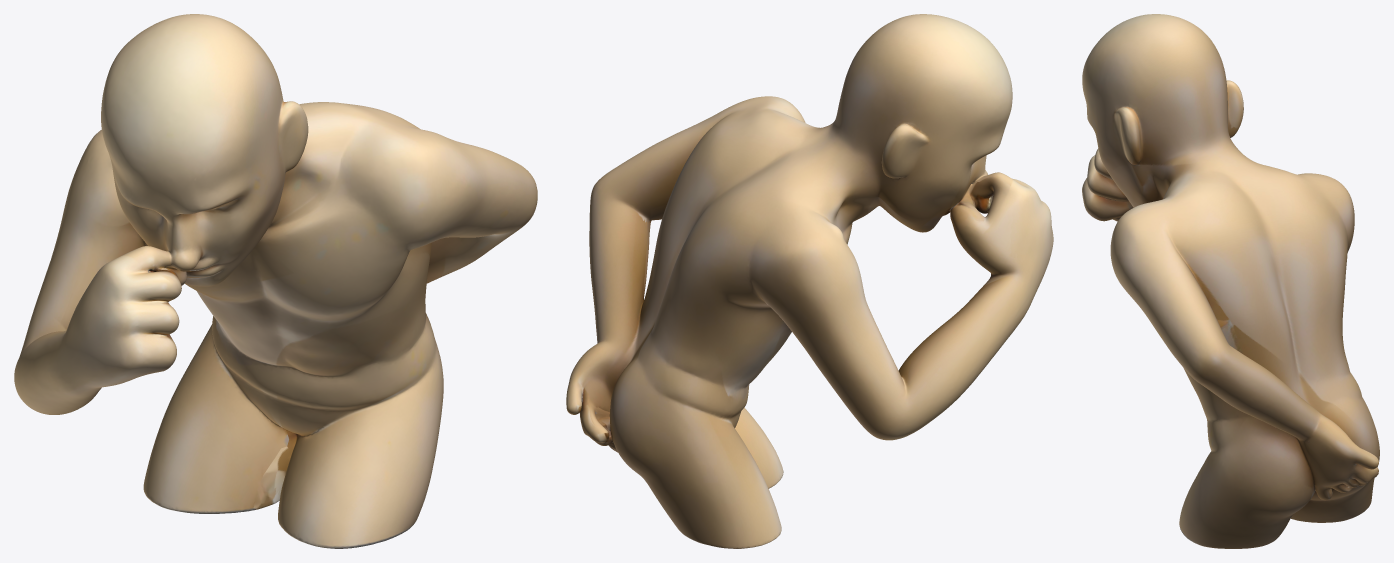
File: nose_bleed.glb
3 renders of one model, left to right at view 1: azimuth 30°, elevation 25°; view 2: azimuth 150°, elevation 25°; view 3: azimuth 270°, elevation 25°, orthographic. The views are drawn at different scales.
Visible parts, largest first — view 1: mvadapter_node_10a831cb-6e1d-4155-93c2-40f1b13ab5e2-e1_textu; view 2: mvadapter_node_10a831cb-6e1d-4155-93c2-40f1b13ab5e2-e1_textu; view 3: mvadapter_node_10a831cb-6e1d-4155-93c2-40f1b13ab5e2-e1_textu.
Part boxes in pixels (<box>): mvadapter_node_10a831cb-6e1d-4155-93c2-40f1b13ab5e2-e1_textu: <box>14,14,537,548</box>; mvadapter_node_10a831cb-6e1d-4155-93c2-40f1b13ab5e2-e1_textu: <box>566,14,1053,548</box>; mvadapter_node_10a831cb-6e1d-4155-93c2-40f1b13ab5e2-e1_textu: <box>1082,14,1379,548</box>.
Bounding box in the file's own units: 1.72 × 1.87 × 1.17.
Materials: 1 (1 with a texture image).
